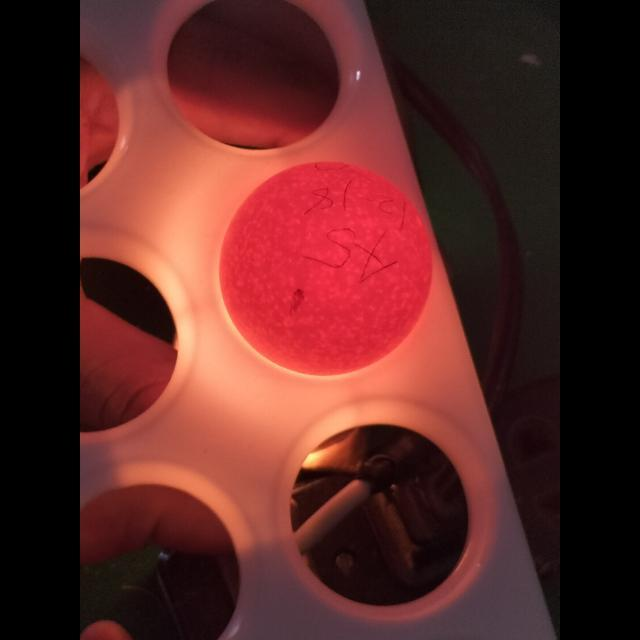Infertile: (220, 152, 438, 378)
